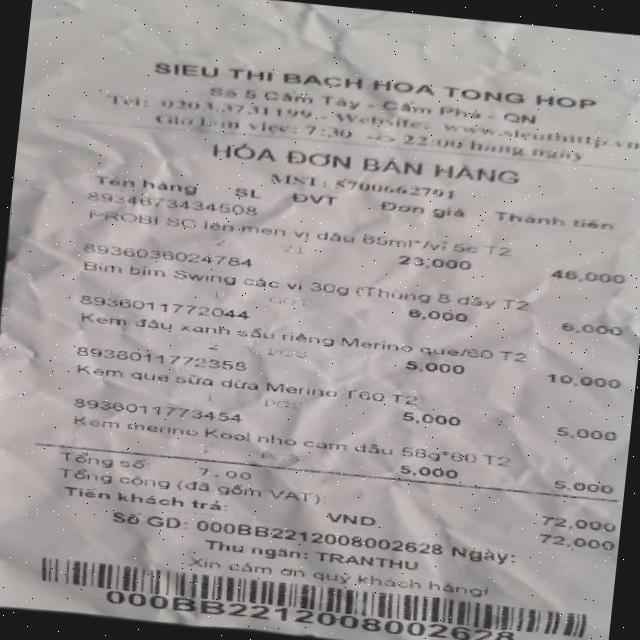Store_Name: (132, 28, 611, 123)
amount_number: (530, 508, 618, 538)
label_total: (54, 460, 176, 494)
